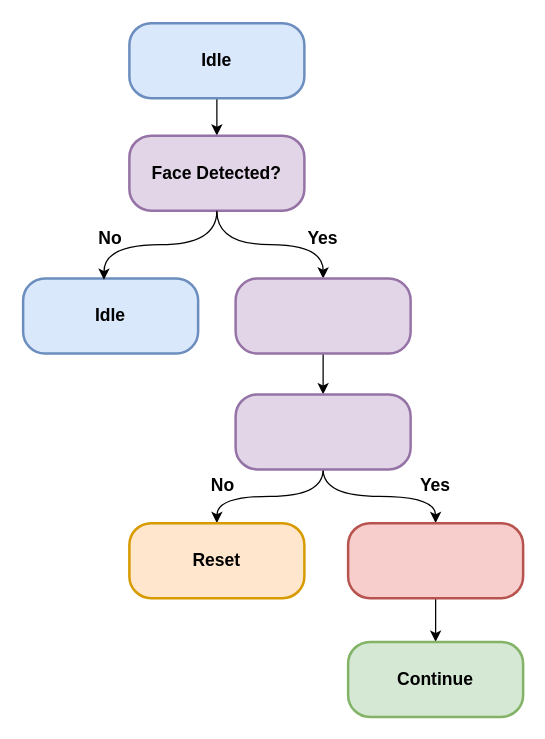
This 545x739 diagram has some shape labels left out. The centre of each missing label's shape, as x and y in pixels:
Activate Launcher: point (435, 560)
Face Still Visible?: point (322, 431)
Track Face: point (322, 315)
